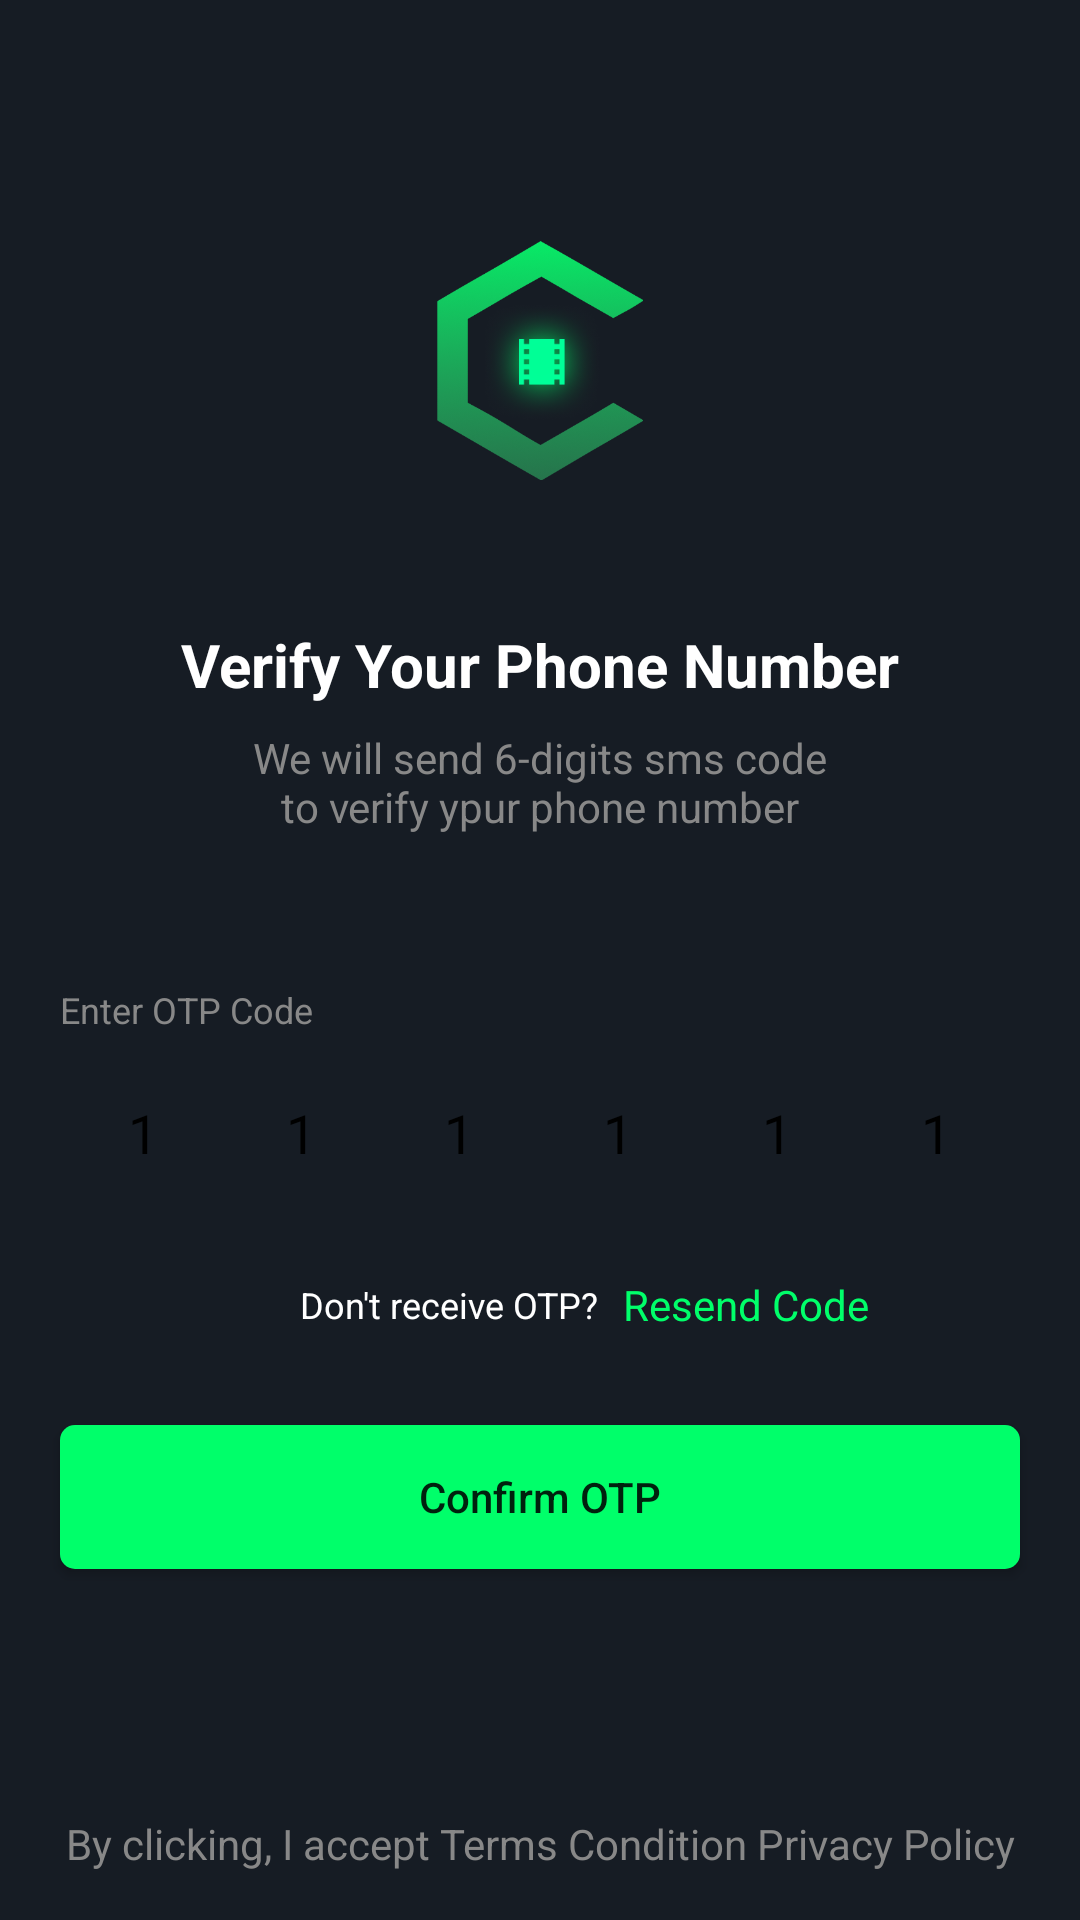

Icon bounding boxes for this 1080×1920 phone screenshot, format (x1, y1, x2, y2):
video: (503, 322, 581, 402)
